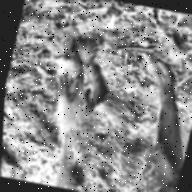boar: (1, 25, 192, 192)
